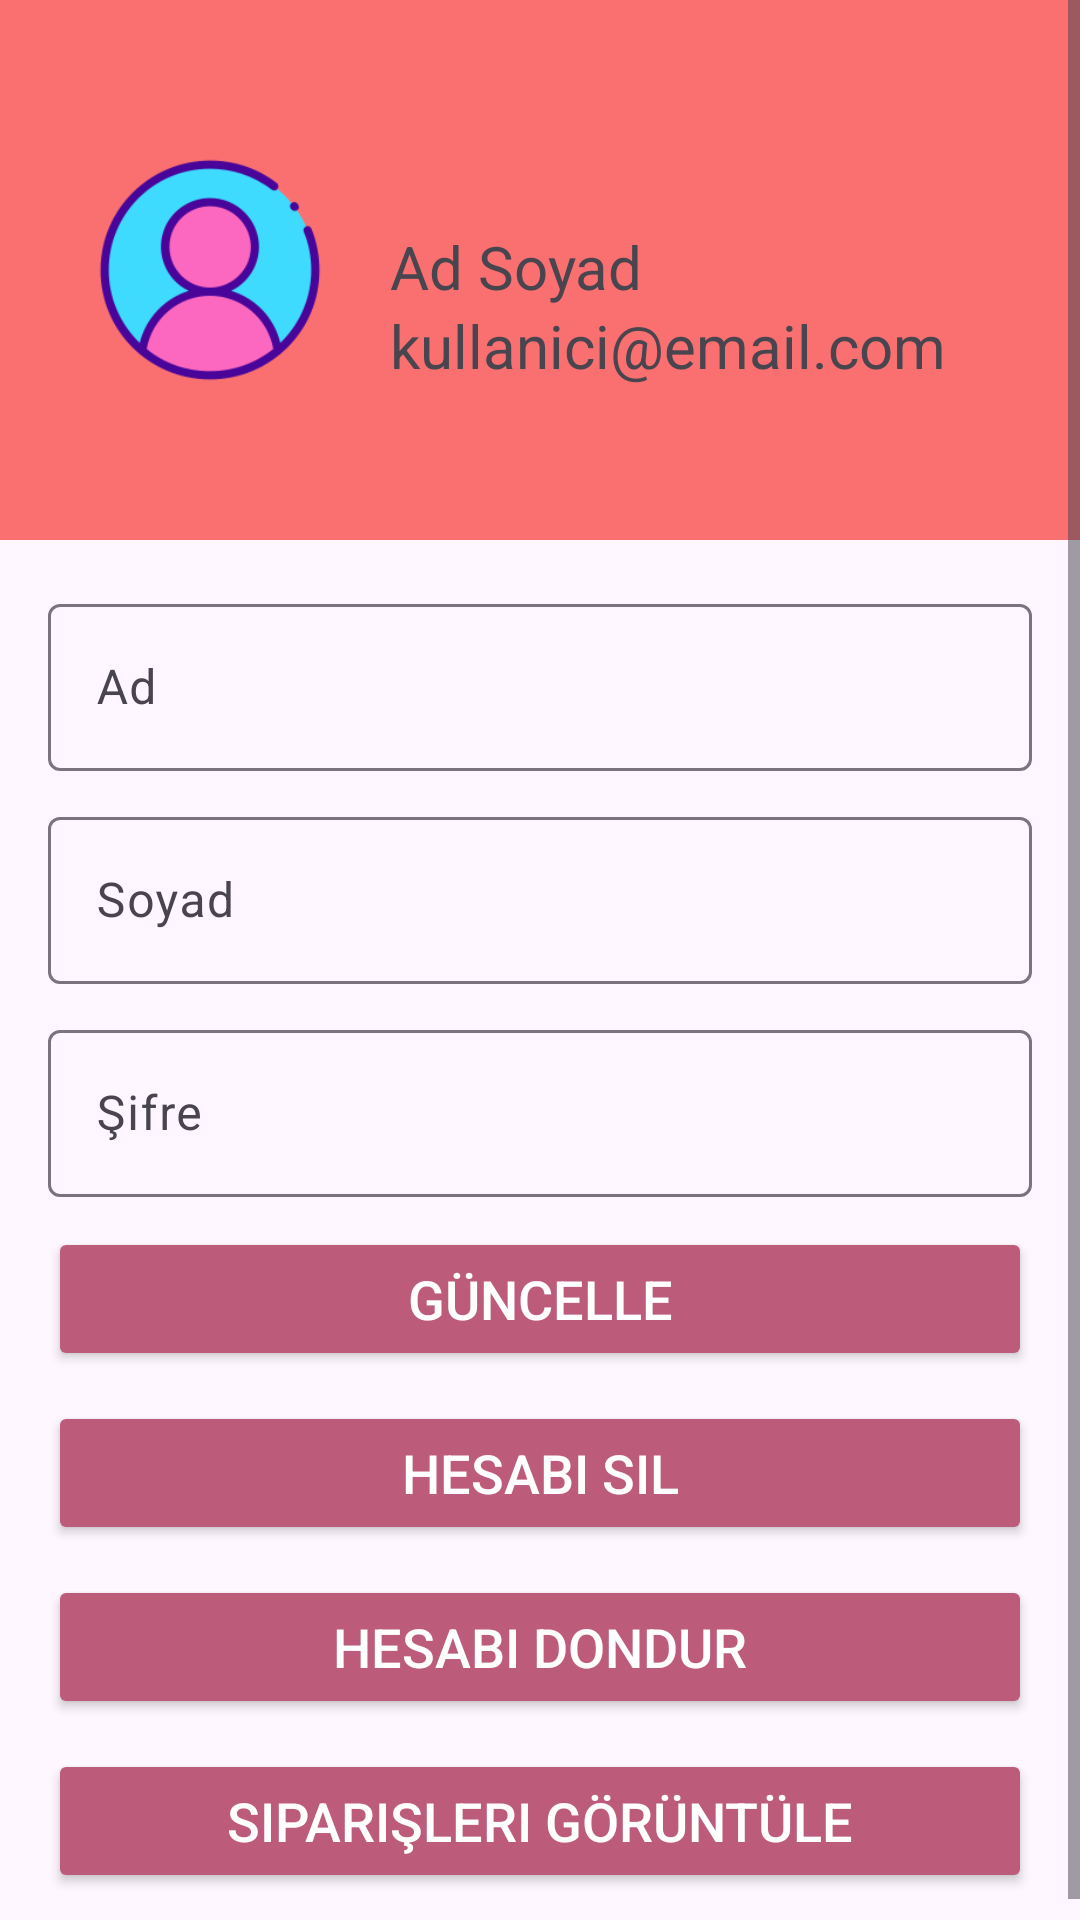

Screen size 1080px×1920px. Icon name, then its center in pixels as (x,y):
profileicon: (210,270)
